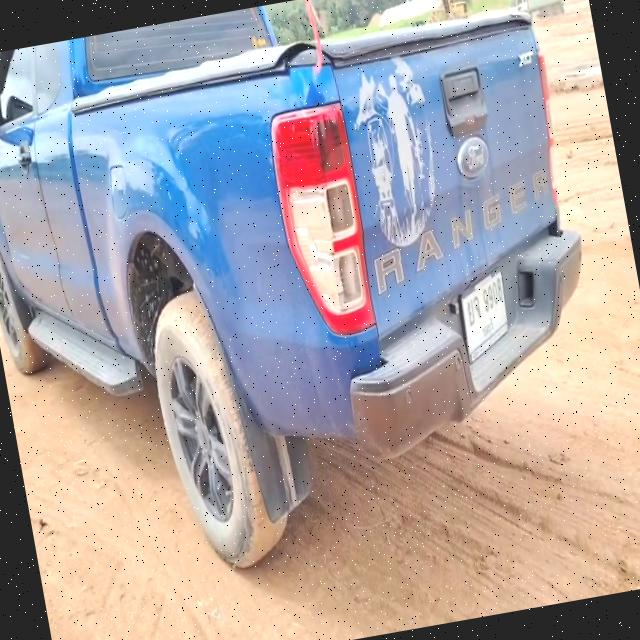Digit: (480, 275, 506, 311)
Licenseplate: (458, 266, 510, 367)
Provincename: (477, 317, 500, 341)
Thaichar: (464, 292, 482, 326)
